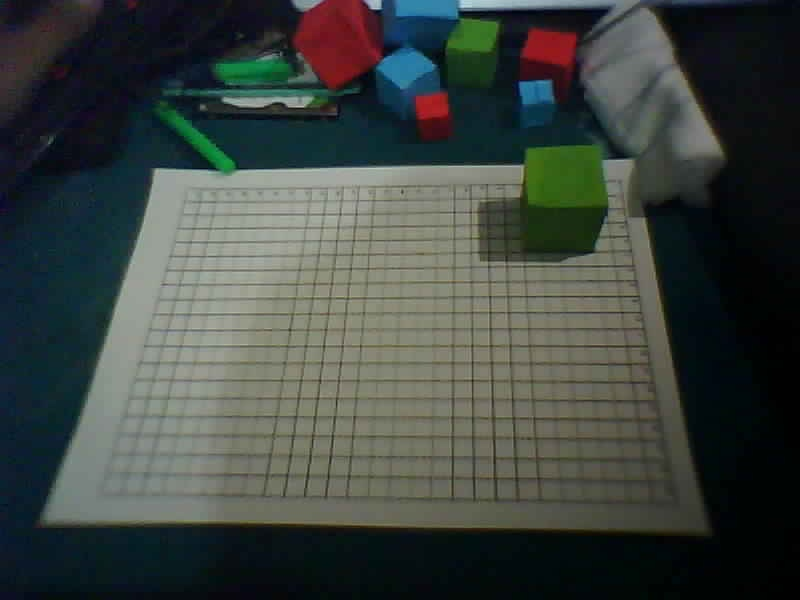LB: (95, 490, 103, 496)
LT: (182, 187, 190, 193)
RB: (672, 501, 680, 507)
RT: (616, 179, 624, 185)
